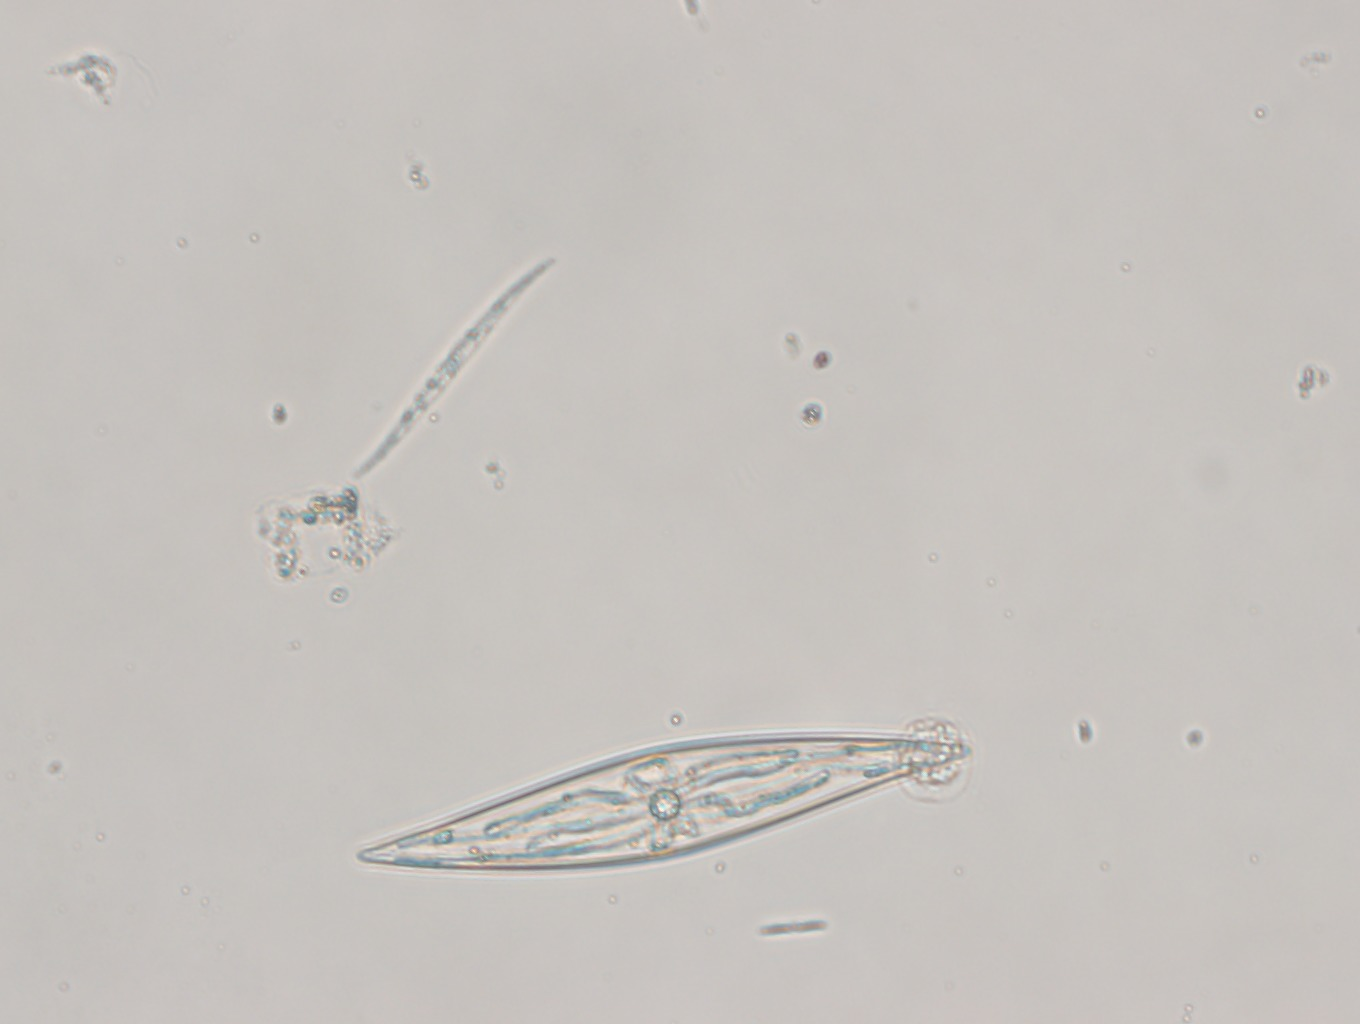pleurosigma pelagicum: (337, 711, 973, 888), (346, 251, 566, 487)
